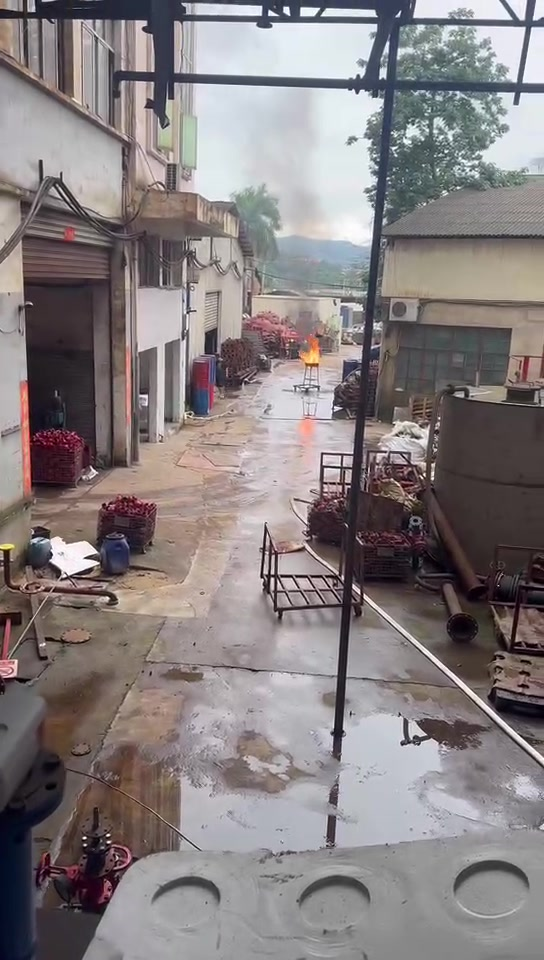fire: (299, 333, 319, 363)
